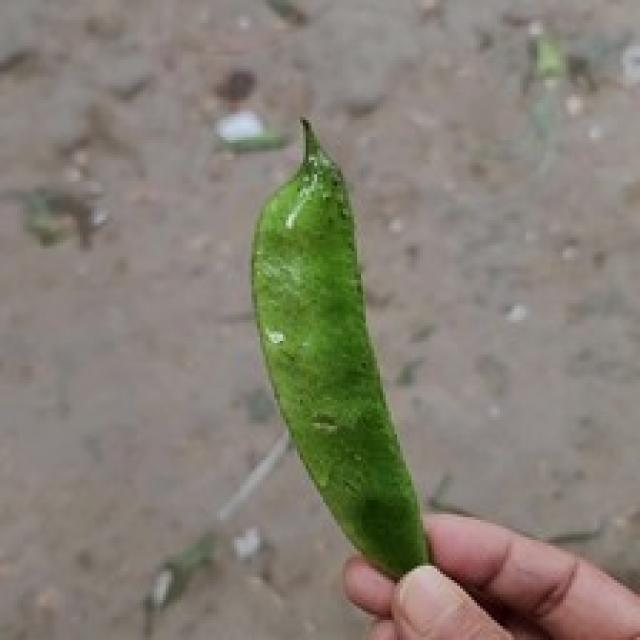Bean: (246, 114, 431, 580)
